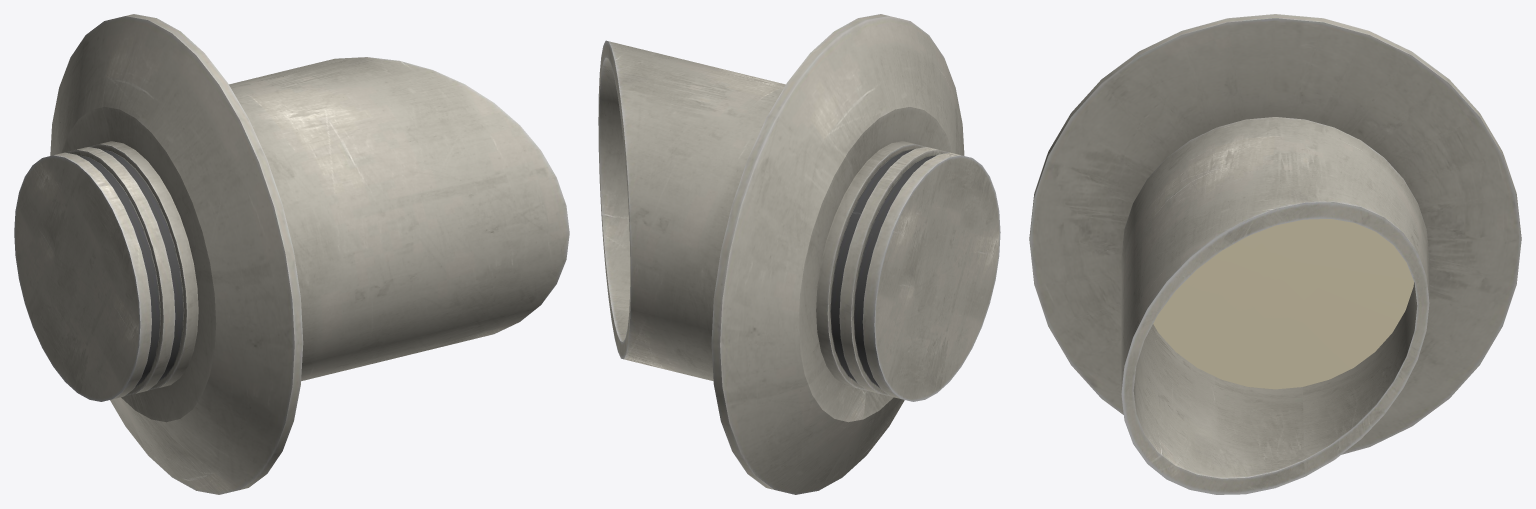
File: guard_7_c_d.glb
3 views of the same model, side by side, from view 1: azimuth 30°, elevation 25°; view 2: azimuth 150°, elevation 25°; view 3: azimuth 270°, elevation 25° (orthographic).
Parts seen in each view (by area): view 1: guard_7_c_d_lod0; view 2: guard_7_c_d_lod0; view 3: guard_7_c_d_lod0.
Boxes of the visible parts, box(x1,y1,x2,y2) form: guard_7_c_d_lod0: box(14, 14, 569, 494); guard_7_c_d_lod0: box(598, 14, 1000, 494); guard_7_c_d_lod0: box(1029, 14, 1521, 494).
Size of what is drawn, in the model's own units: 0.0476 by 0.0485 by 0.0485.
Materials: 1 (1 with a texture image).
